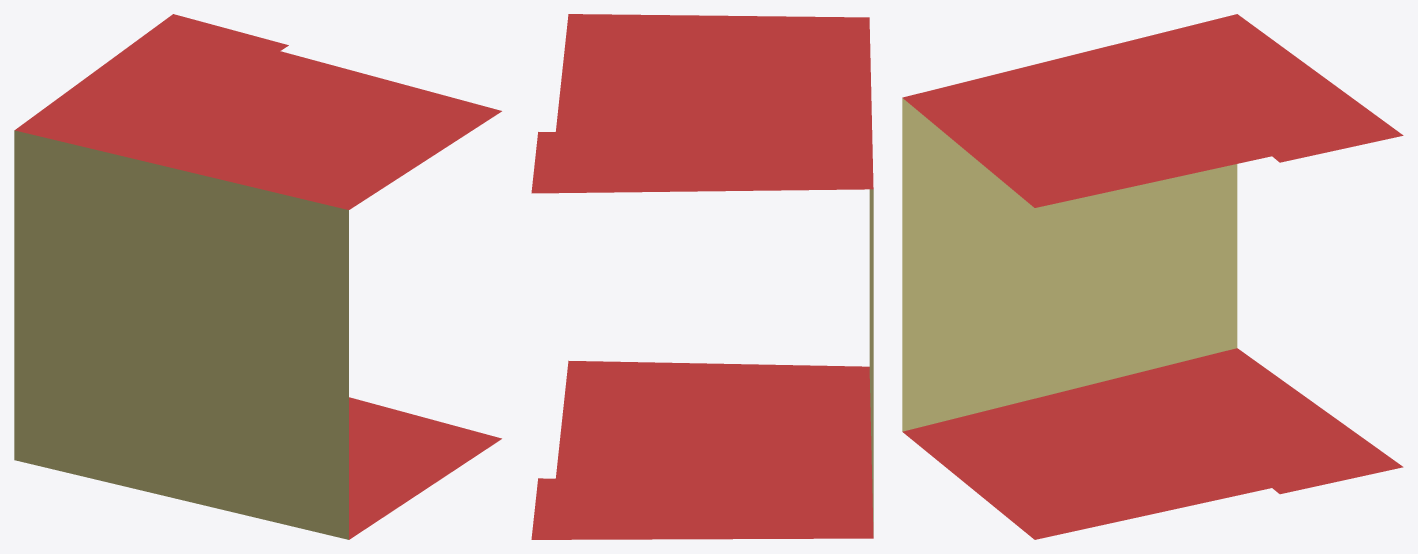
3 views of the same model, side by side, from view 1: azimuth 30°, elevation 25°; view 2: azimuth 150°, elevation 25°; view 3: azimuth 270°, elevation 25° (orthographic). The views are drawn at different scales.
Size of the model in its own units: 6.72 by 7.42 by 5.45.
